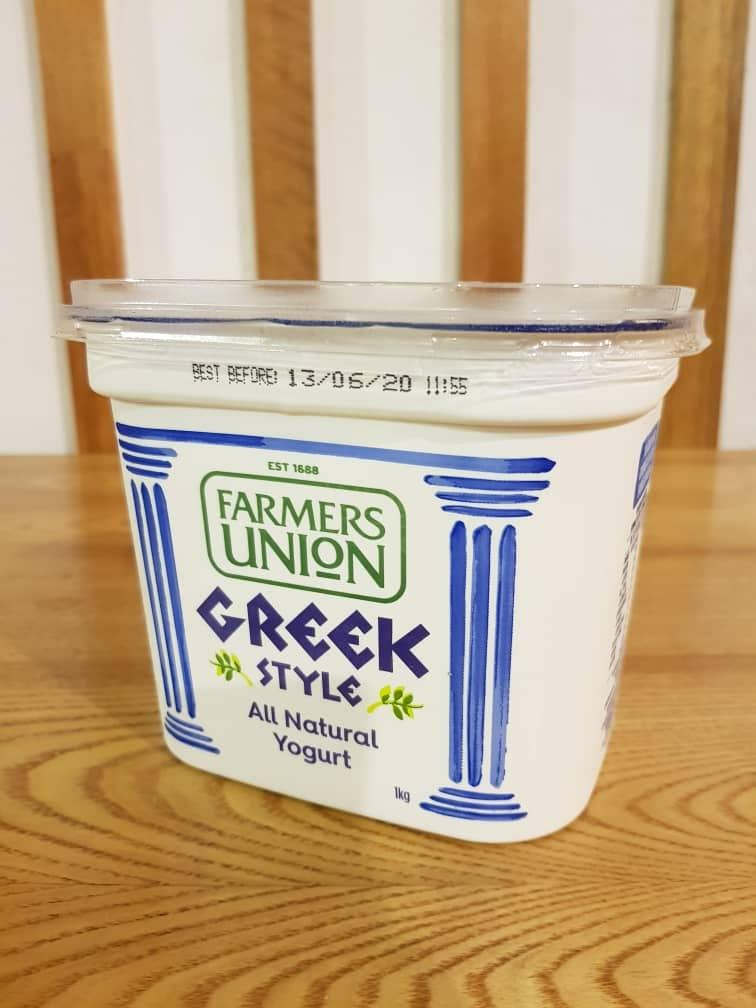plastic: (62, 262, 710, 851)
